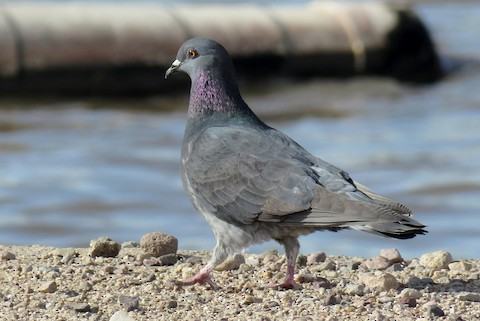pigeon: (154, 32, 434, 294)
